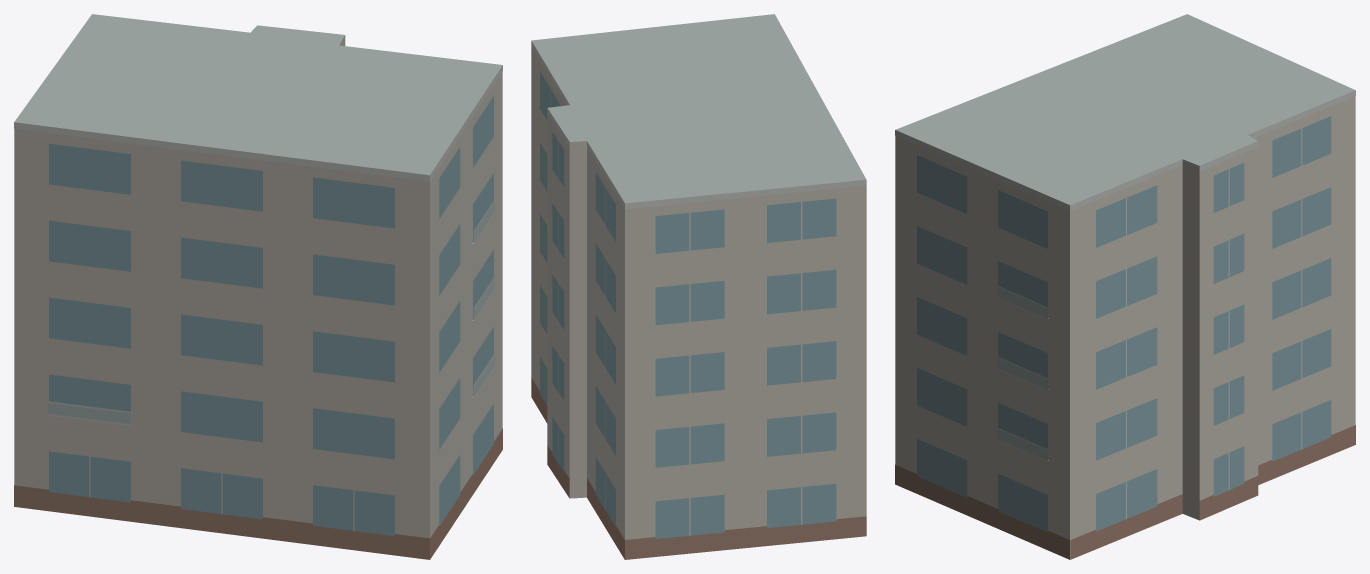
Rendered from survey-upis-32842764.glb.
3 views of the same model, side by side, from view 1: azimuth 30°, elevation 25°; view 2: azimuth 150°, elevation 25°; view 3: azimuth 270°, elevation 25° (orthographic). The views are drawn at different scales.
Visible parts, largest first — view 1: survey-upis-32842764.tmp; view 2: survey-upis-32842764.tmp; view 3: survey-upis-32842764.tmp.
Part boxes in pixels (<box>): survey-upis-32842764.tmp: <box>14,14,502,559</box>; survey-upis-32842764.tmp: <box>531,14,866,559</box>; survey-upis-32842764.tmp: <box>895,14,1355,559</box>.
Size of the model in its own units: 16.78 by 14.5 by 17.07.
